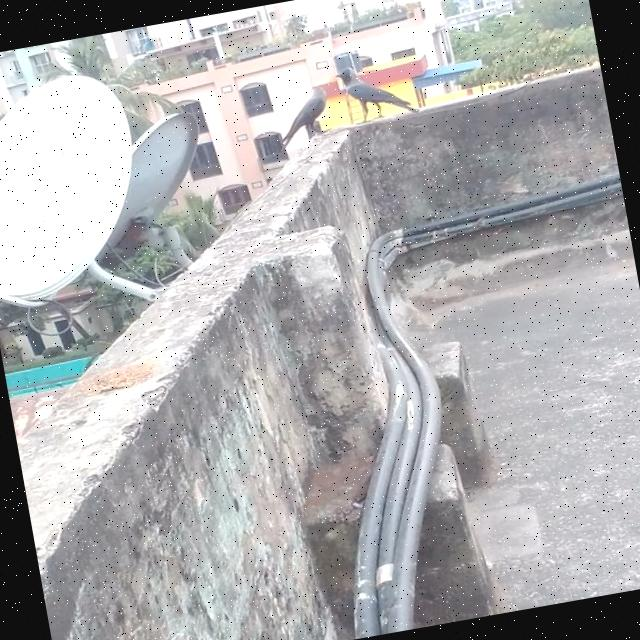crow: (332, 55, 422, 128), (268, 83, 338, 153)
